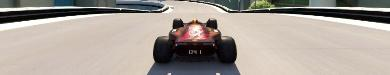Car: (152, 17, 237, 63)
Tree: (247, 0, 275, 9)
obstacles-Borders: (0, 5, 164, 25), (240, 6, 389, 23)
